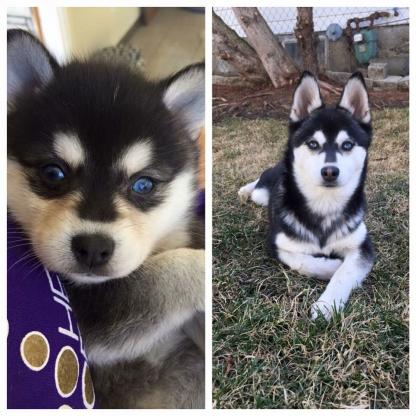husky: (5, 30, 205, 357), (232, 66, 379, 325)
